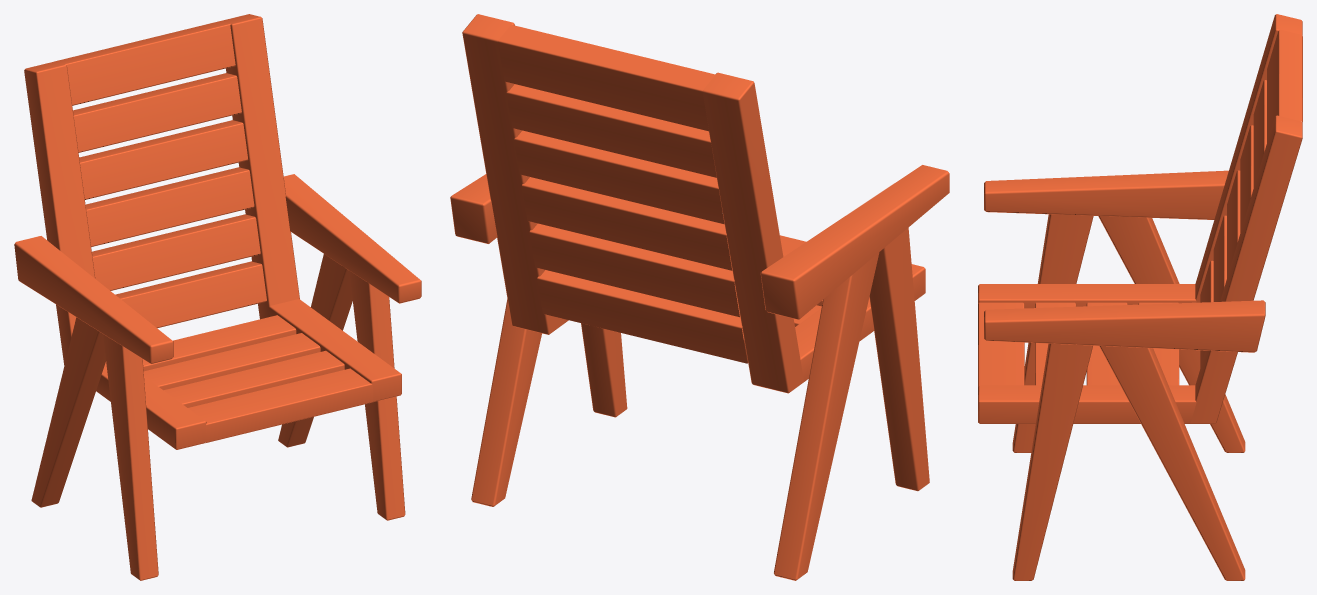
The model's file is Town_16_Outdoor_Lounger_Chair_1.glb.
3 renders of one model, left to right at view 1: azimuth 30°, elevation 25°; view 2: azimuth 150°, elevation 25°; view 3: azimuth 270°, elevation 25°, orthographic. The views are drawn at different scales.
Visible parts, largest first — view 1: Town_16_Outdoor_Lounger_Chair_1; view 2: Town_16_Outdoor_Lounger_Chair_1; view 3: Town_16_Outdoor_Lounger_Chair_1.
Part boxes in pixels (x1=…): Town_16_Outdoor_Lounger_Chair_1: x1=14, y1=14, x2=421, y2=580; Town_16_Outdoor_Lounger_Chair_1: x1=450, y1=14, x2=949, y2=580; Town_16_Outdoor_Lounger_Chair_1: x1=978, y1=14, x2=1302, y2=580.
Size of the model in its own units: 0.8863 by 1.24 by 0.8313.
Materials: 1 (1 with a texture image).
